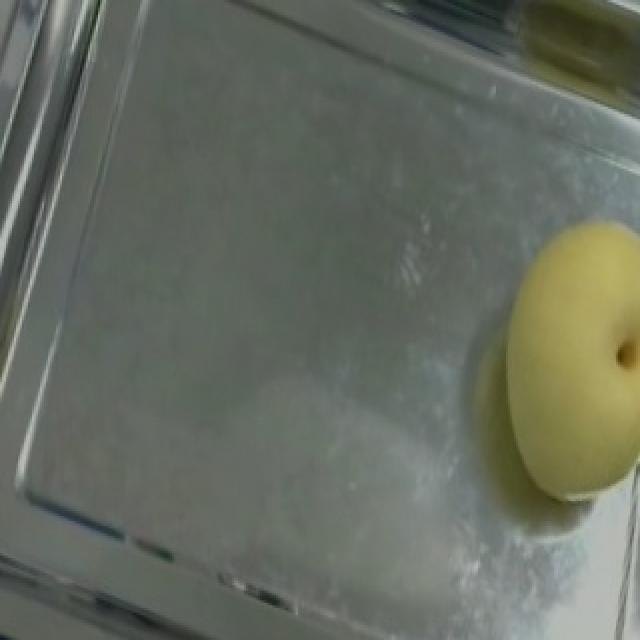Fruit: (428, 184, 640, 524)
